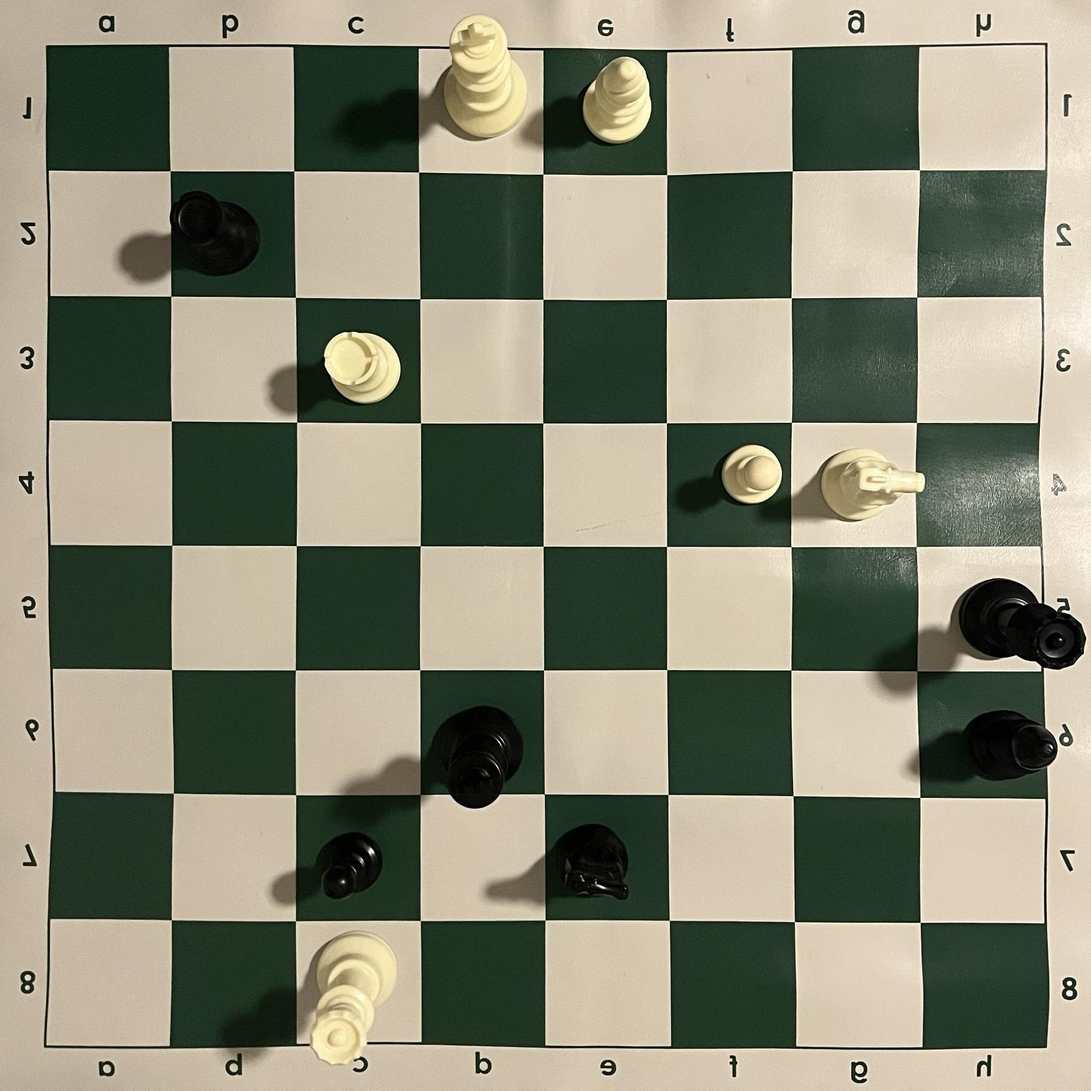black_bishop: (964, 711, 1059, 782)
black_king: (433, 706, 525, 809)
black_knight: (554, 823, 629, 903)
black_pawn: (316, 832, 384, 900)
black_queen: (956, 578, 1087, 669)
black_rook: (169, 190, 261, 277)
white_bishop: (582, 55, 652, 146)
white_king: (444, 13, 528, 140)
white_knight: (820, 447, 926, 521)
white_pawn: (720, 444, 783, 506)
white_queen: (309, 931, 398, 1067)
white_rook: (324, 331, 402, 404)
